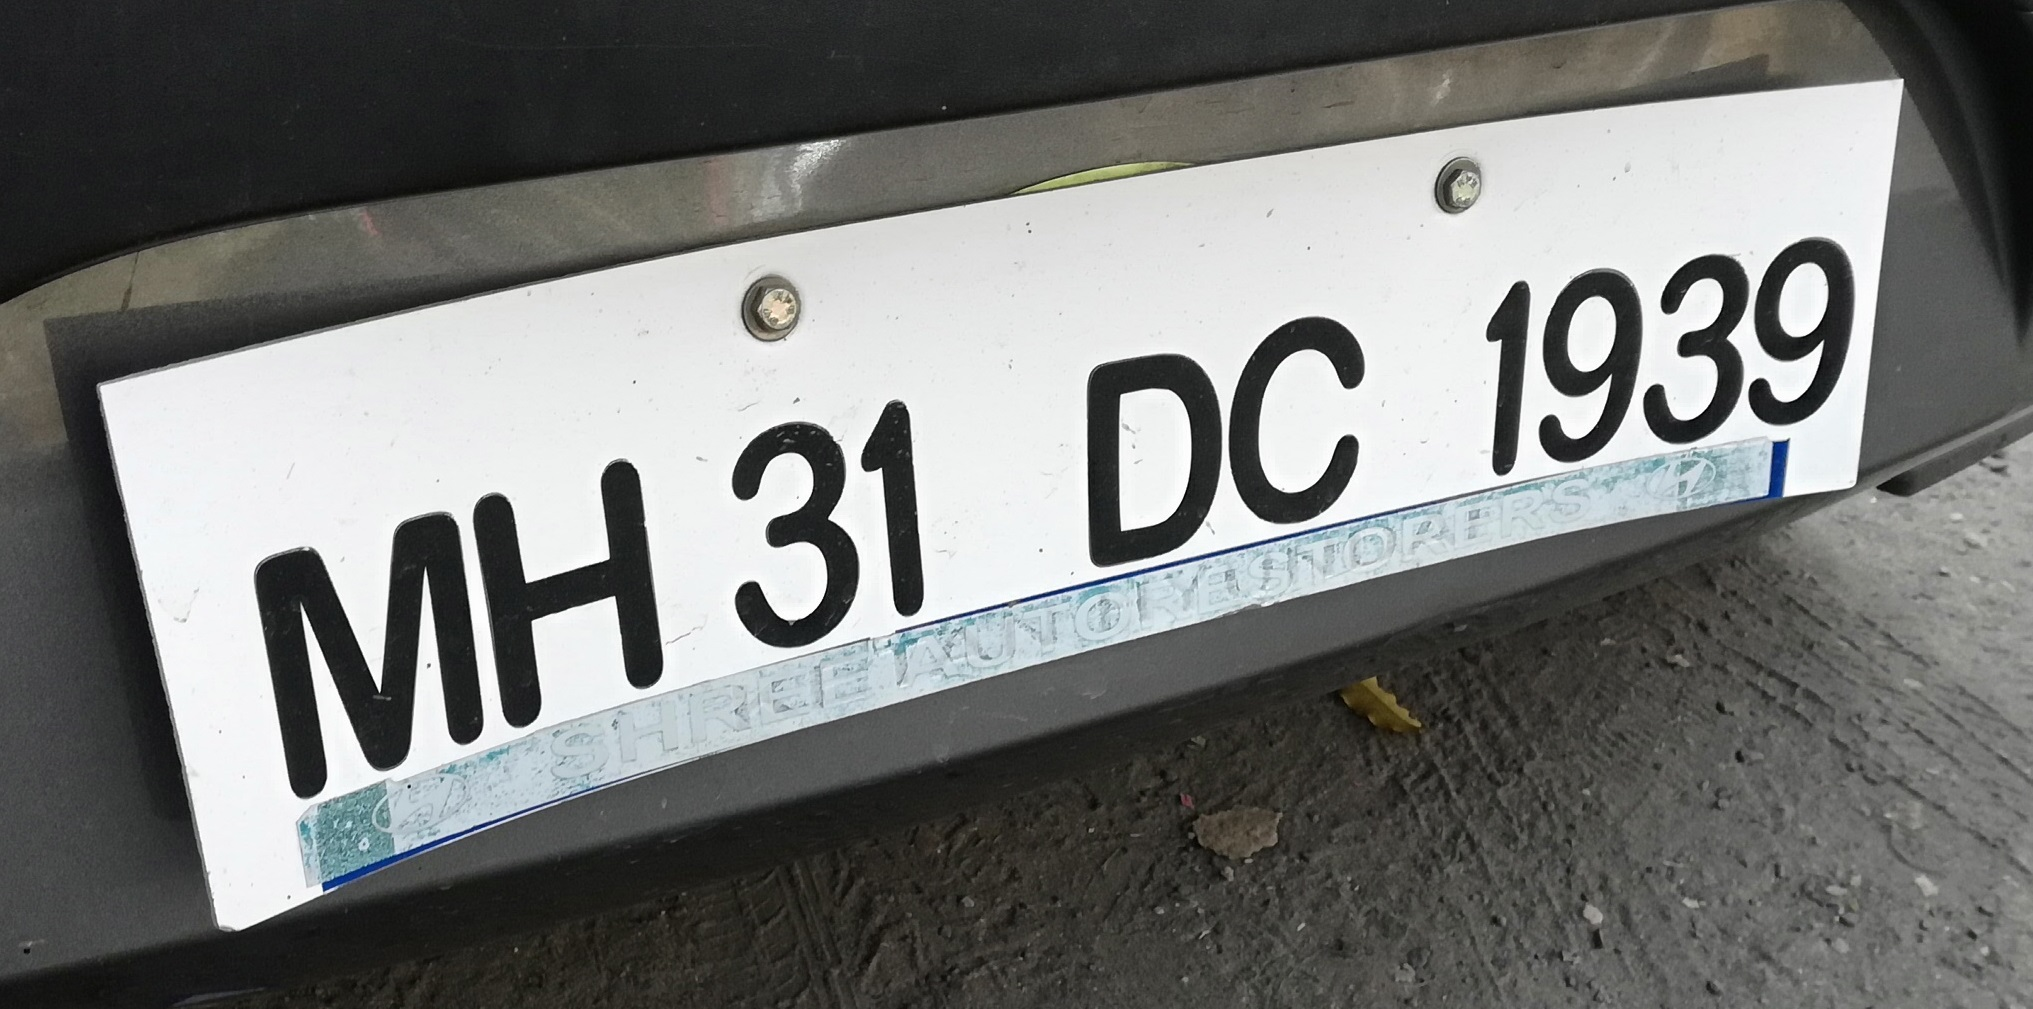numberplate: (73, 75, 1907, 932)
